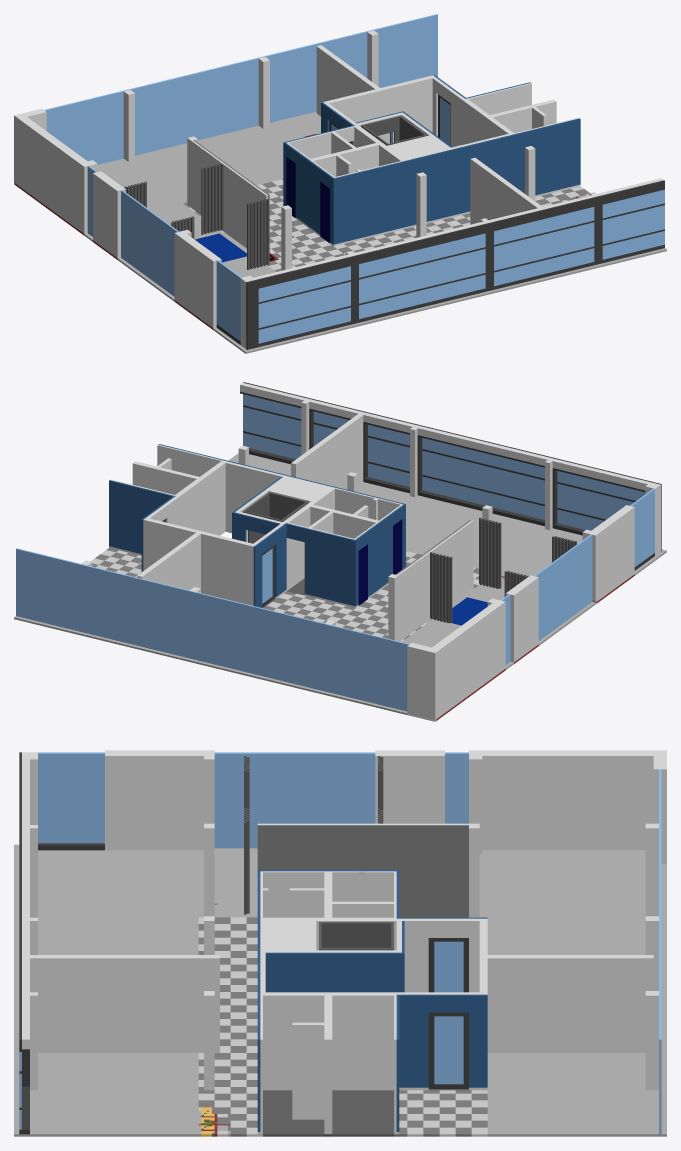
File: dice_2og-103-floorplan_1.obj
3 renders of one model, top to bottom at view 1: azimuth 30°, elevation 25°; view 2: azimuth 150°, elevation 25°; view 3: azimuth 270°, elevation 25°, orthographic. The views are drawn at different scales.
Visible parts, largest first — view 1: floorplan_1; view 2: floorplan_1; view 3: floorplan_1.
Part boxes in pixels (<box>): floorplan_1: <box>14,14,666,353</box>; floorplan_1: <box>14,382,666,721</box>; floorplan_1: <box>14,750,666,1136</box>.
Bounding box in the file's own units: 25.6 × 4 × 24.4.
Materials: 1 (1 with a texture image).
